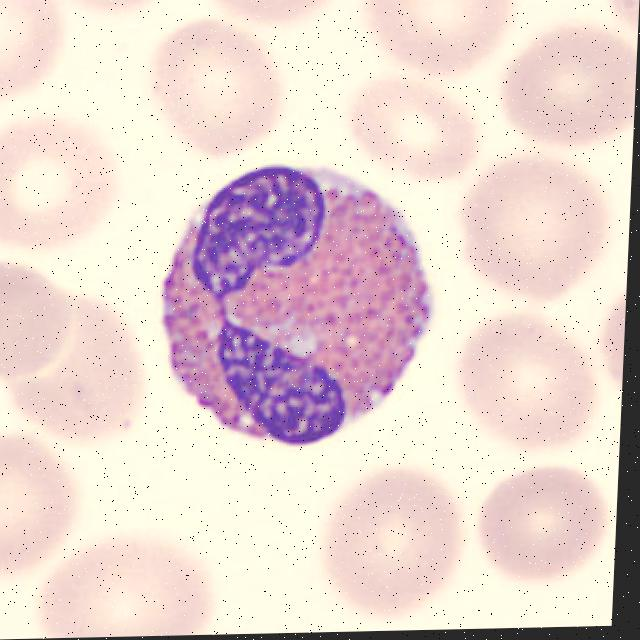eosinophil: (151, 157, 444, 448)
rbc: (308, 451, 468, 633), (451, 155, 607, 304), (463, 448, 612, 603), (24, 540, 244, 639), (460, 310, 594, 453), (497, 23, 638, 156), (14, 295, 146, 437), (147, 36, 290, 164), (0, 119, 125, 248), (349, 0, 515, 88), (347, 81, 486, 182), (0, 429, 83, 591), (0, 267, 83, 386), (0, 0, 74, 114), (199, 0, 339, 40), (64, 0, 199, 21)
